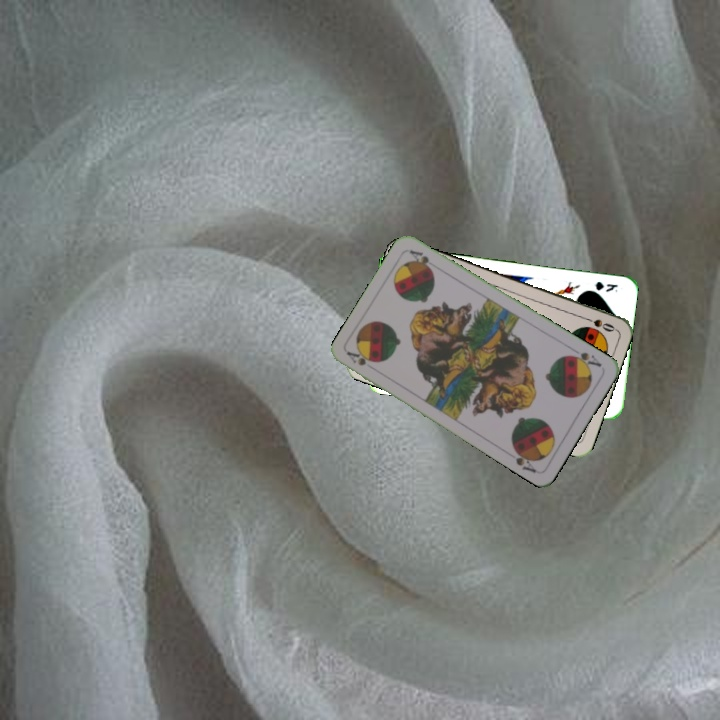GK: (591, 278, 620, 295)
SA: (565, 344, 604, 371), (343, 347, 378, 368)
SO: (578, 312, 617, 334)
